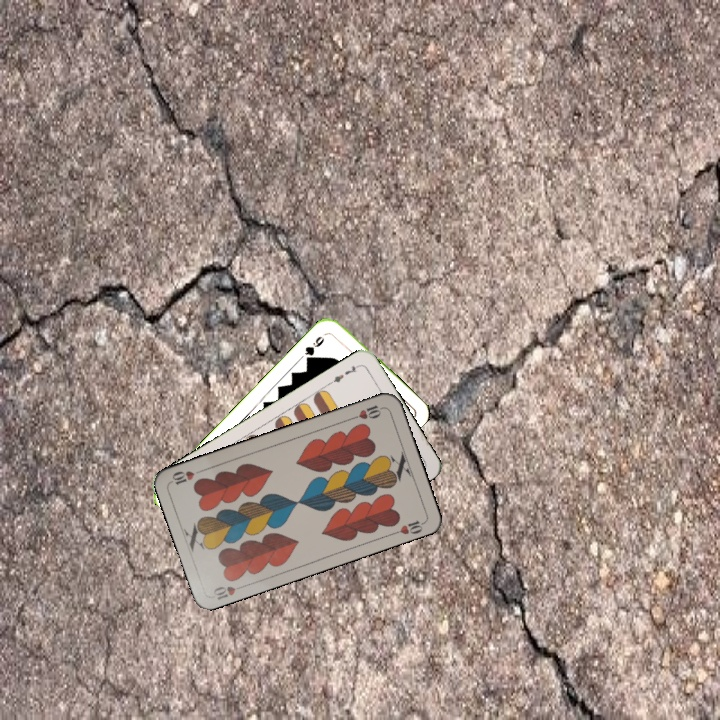E7: (325, 361, 362, 387)
G9: (301, 332, 327, 364)
H10: (346, 400, 386, 423), (209, 581, 248, 602)
